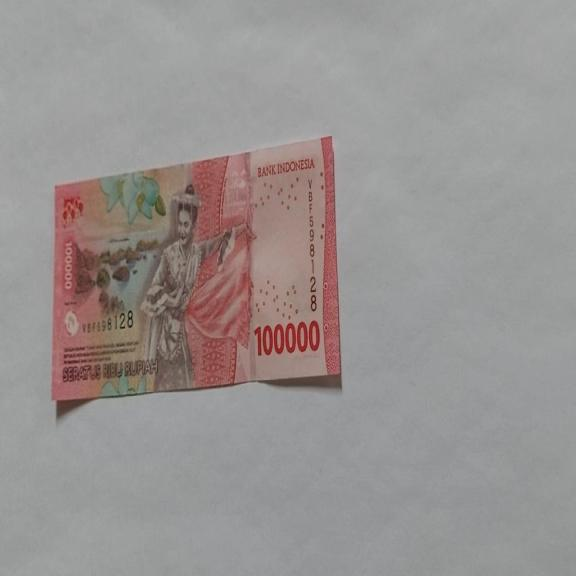Kertas: (51, 134, 342, 404), (253, 319, 320, 358)
